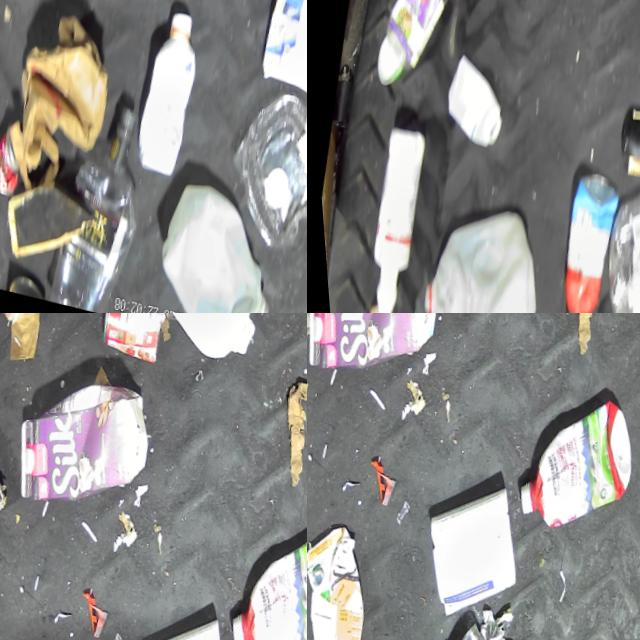can: (239, 0, 307, 100), (419, 611, 505, 640), (0, 121, 21, 200)
milk_jug: (129, 169, 284, 313), (395, 186, 553, 313), (123, 313, 280, 370), (78, 313, 170, 362)
non_white_jug: (499, 376, 640, 541), (569, 153, 640, 313), (307, 313, 446, 391), (307, 512, 378, 640)
plastic_bottle: (21, 85, 157, 313)
